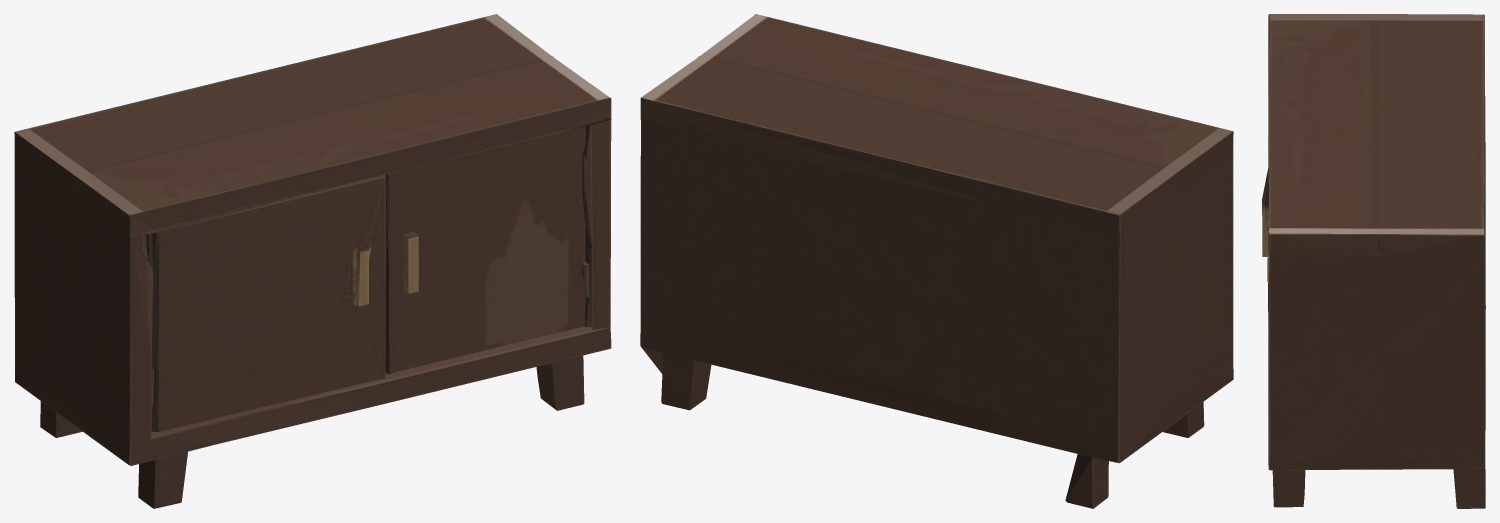
The model's file is lowCabinet.glb.
The picture shows the model from 3 angles, left to right: view 1: azimuth 30°, elevation 25°; view 2: azimuth 150°, elevation 25°; view 3: azimuth 270°, elevation 25°; orthographic projection. The views are drawn at different scales.
Bounding box in the file's own units: 1.9 × 1.14 × 0.8142.
1 material, 1 textured.
